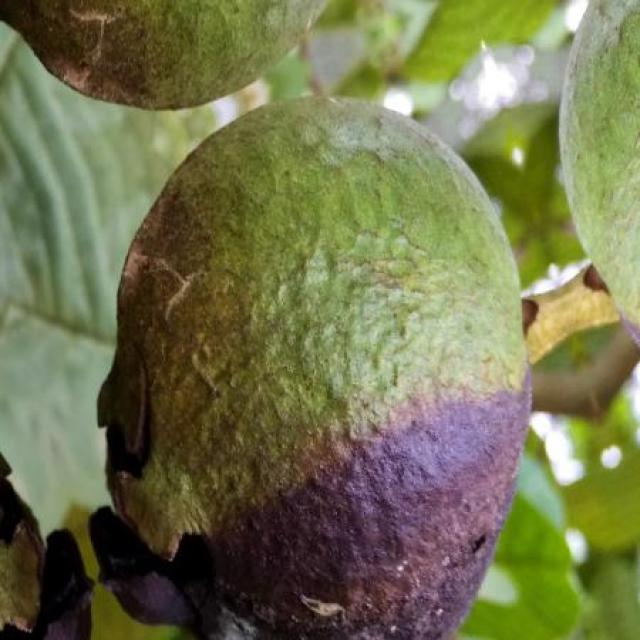Styler and Root: (99, 98, 530, 640), (0, 1, 324, 109)
